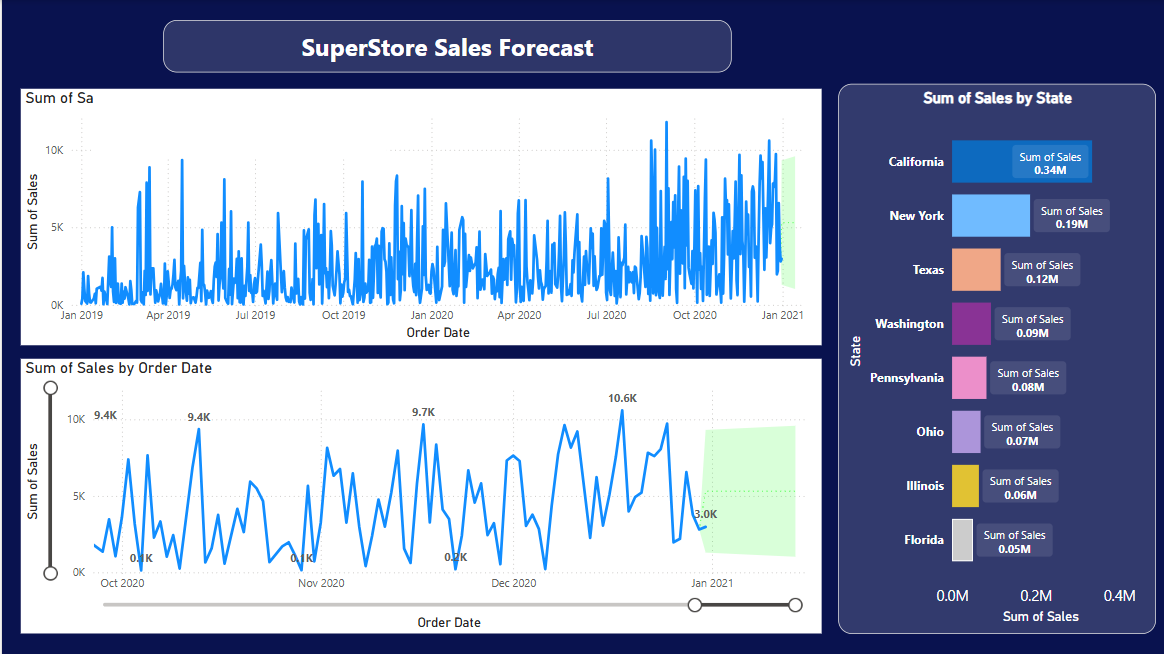

What the dashboard file says about the page in this screenshot:
{"tool":"powerbi","page":{"name":"Page 2","canvas":[1280,720],"ordinal":1},"visuals":[{"type":"lineChart","fields":{"Y":["Sum(SuperStore_Sales_Dataset.Sales)"],"Category":["SuperStore_Sales_Dataset.Order Date"]},"box":[20.6,97.4,879.6,281.3],"z":0},{"type":"lineChart","fields":{"Y":["Sum(SuperStore_Sales_Dataset.Sales)"],"Category":["SuperStore_Sales_Dataset.Order Date"]},"box":[20.6,393.8,879.6,301.9],"z":1000},{"type":"barChart","fields":{"Y":["Sum(SuperStore_Sales_Dataset.Sales)"],"Category":["SuperStore_Sales_Dataset.State"]},"box":[918,91.9,348.5,603.8],"z":2000},{"type":"textbox","box":[100.2,100.2,322.5,71.4],"z":3000},{"type":"textbox","box":[177,22,624.4,57.6],"z":4000}]}

Visuals, with their boxes in screenshot pixels (x1, y1, x2, y2), scaled from the page's 1280x720 canvas onto the 1164x654 screenshot:
lineChart - Sum(SuperStore_Sales_Dataset.Sales) x SuperStore_Sales_Dataset.Order Date: pyautogui.locateOnScreen(19, 88, 819, 344)
lineChart - Sum(SuperStore_Sales_Dataset.Sales) x SuperStore_Sales_Dataset.Order Date: pyautogui.locateOnScreen(19, 358, 819, 632)
barChart - Sum(SuperStore_Sales_Dataset.Sales) x SuperStore_Sales_Dataset.State: pyautogui.locateOnScreen(835, 83, 1152, 632)
textbox: pyautogui.locateOnScreen(91, 91, 384, 156)
textbox: pyautogui.locateOnScreen(161, 20, 729, 72)
